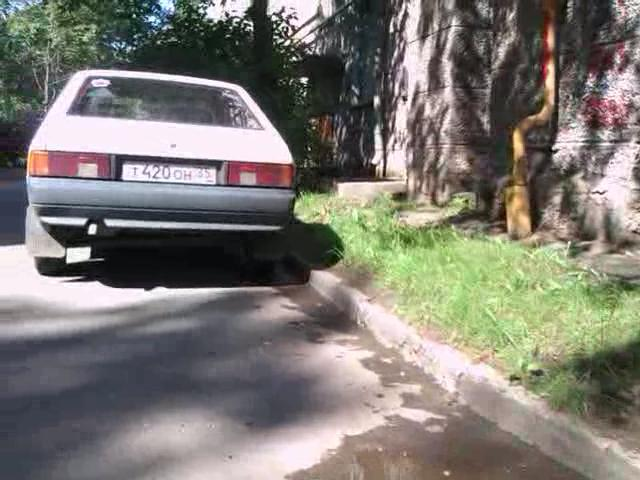car license plate: (117, 153, 220, 189)
